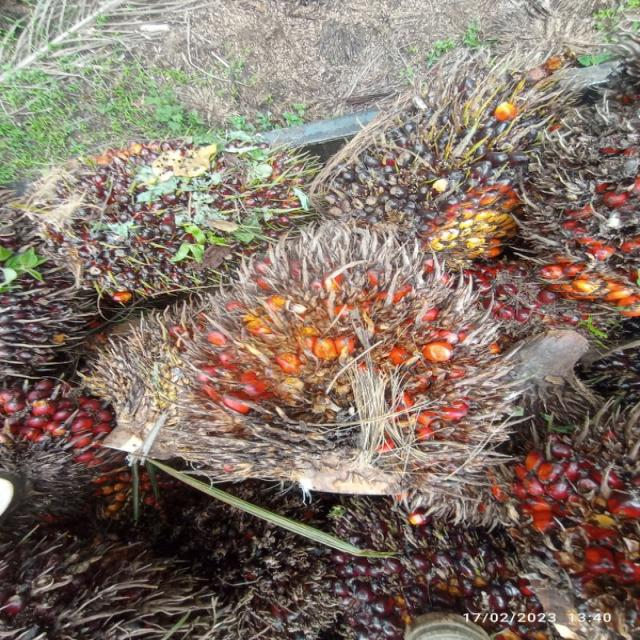fraksi 00: (33, 101, 317, 320), (325, 45, 550, 278)
fraksi 4: (160, 213, 492, 484)
